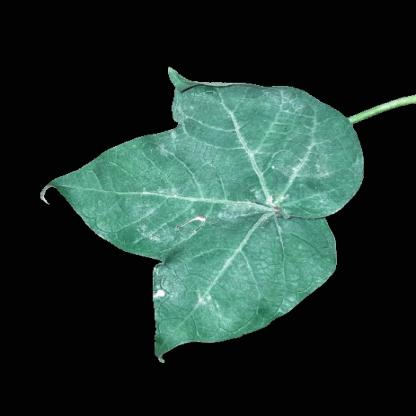healthy: (107, 156, 323, 248), (196, 96, 334, 158), (175, 255, 275, 325)
